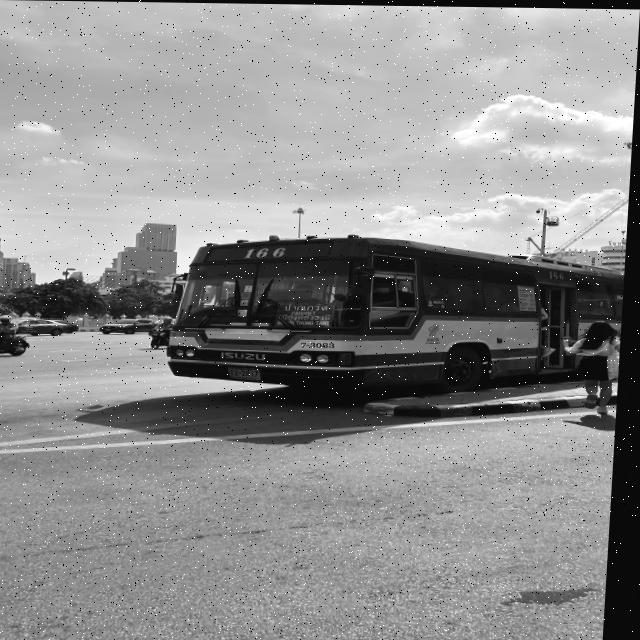BMTA-bus: (168, 233, 629, 401)
Bus-Line-Number: (242, 244, 297, 258)
Destination-Sign-Extra-Bus: (284, 301, 340, 327)
